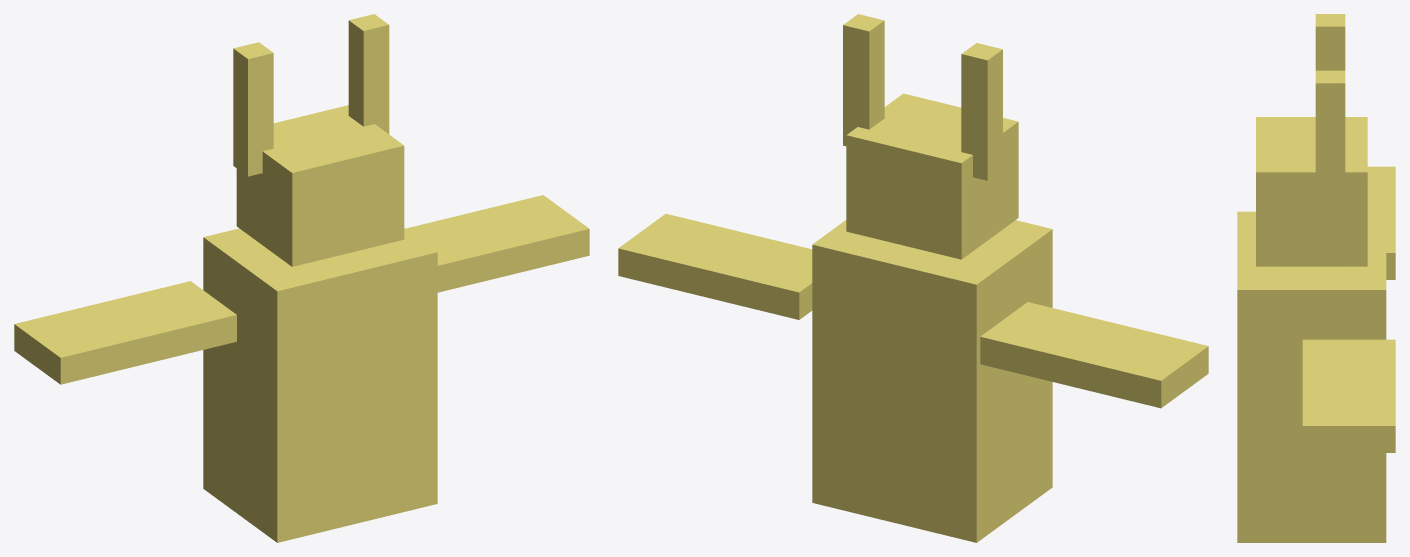
File: demon-enemy.glb
3 views of the same model, side by side, from view 1: azimuth 30°, elevation 25°; view 2: azimuth 150°, elevation 25°; view 3: azimuth 270°, elevation 25° (orthographic). The views are drawn at different scales.
Visible parts, largest first — view 1: Root; view 2: Root; view 3: Root.
Boxes of the visible parts, x1,y1,x2,y2 form: Root: [14, 14, 589, 542]; Root: [618, 14, 1208, 542]; Root: [1237, 14, 1395, 542].
Bounding box in the file's own units: 1.65 × 1.35 × 0.425.
